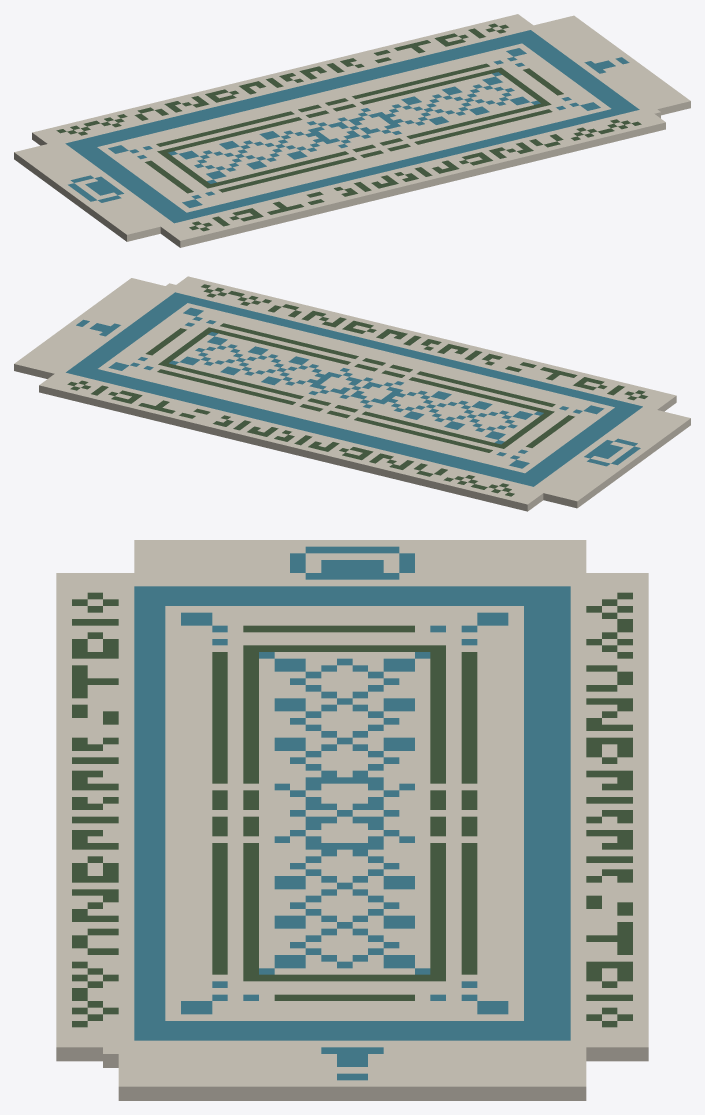
The model's file is Nha-4.obj.
3 views of the same model, one above another, from view 1: azimuth 30°, elevation 25°; view 2: azimuth 150°, elevation 25°; view 3: azimuth 270°, elevation 25° (orthographic). The views are drawn at different scales.
Bounding box in the file's own units: 8.3 × 0.1 × 3.8.
1 material, 1 textured.
